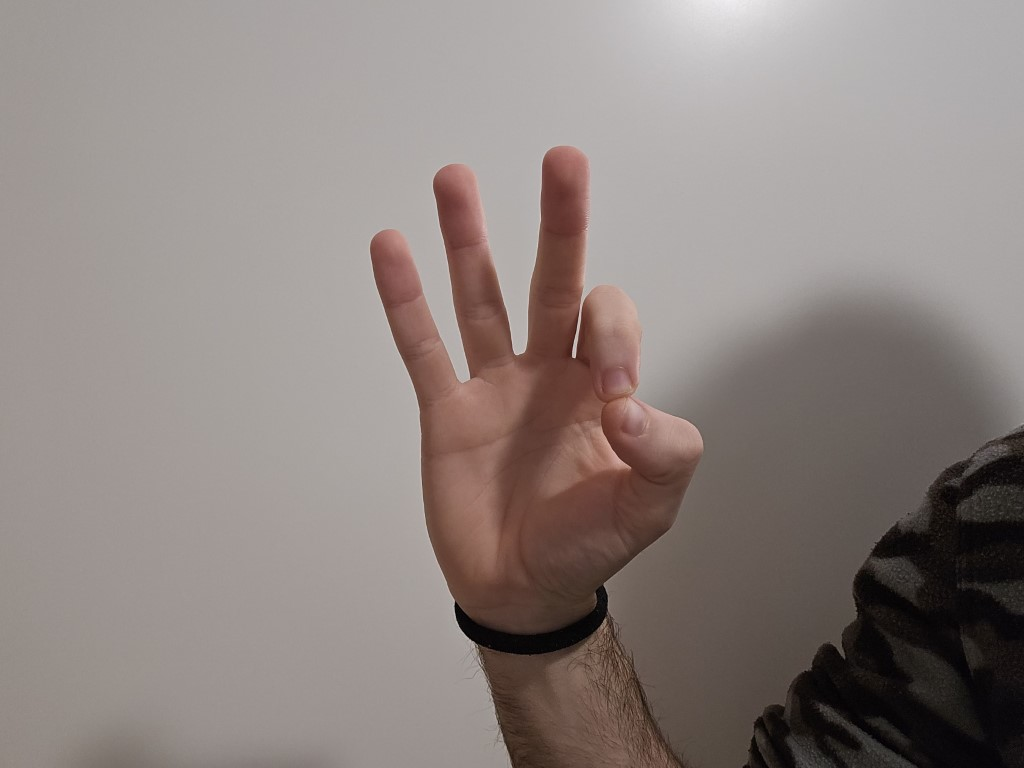f: (323, 123, 715, 607)
